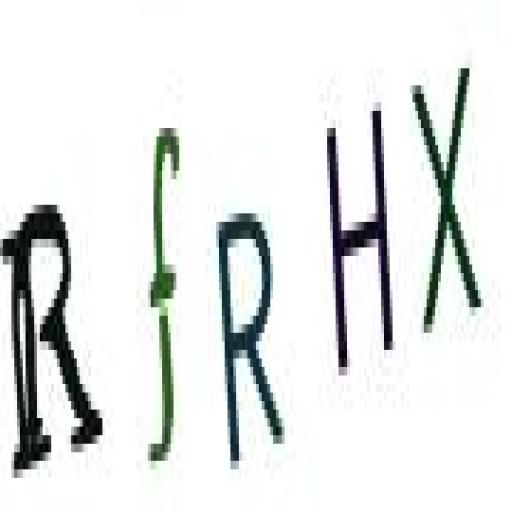H: (322, 89, 396, 388)
R: (0, 182, 110, 484), (210, 196, 286, 485)
X: (414, 53, 490, 340)
f: (136, 103, 184, 494)
